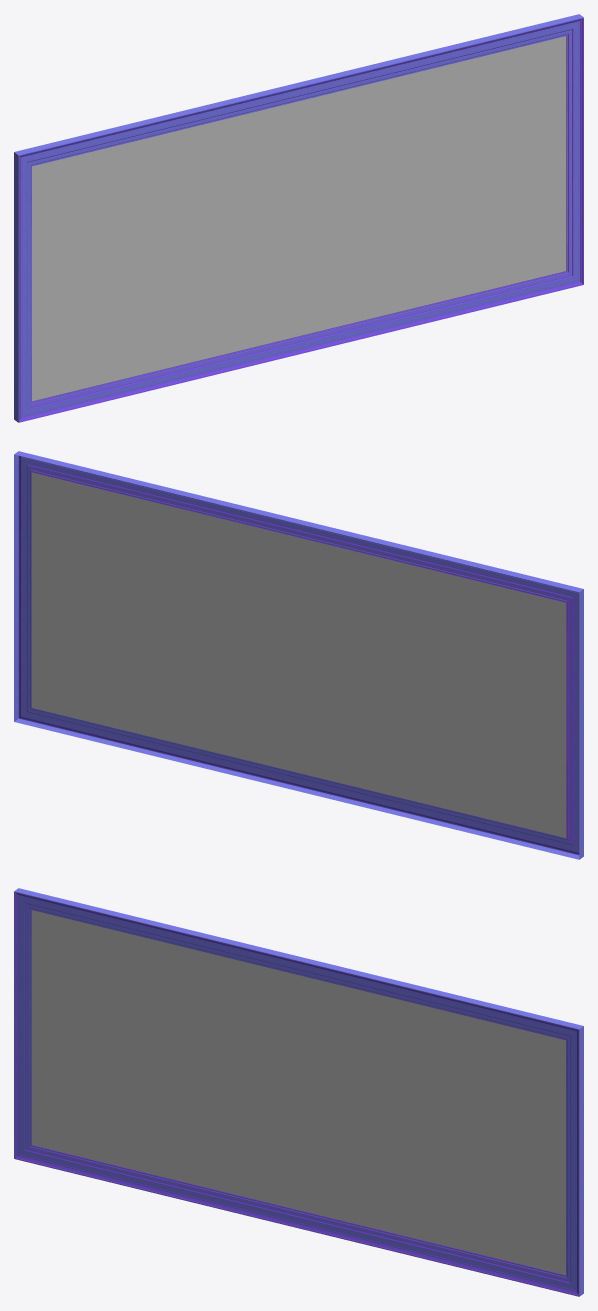
The picture shows the model from 3 angles, top to bottom: view 1: azimuth 30°, elevation 25°; view 2: azimuth 150°, elevation 25°; view 3: azimuth 330°, elevation 25°; orthographic projection.
Parts seen in each view (by area): view 1: _09_16, _09_16_frame; view 2: _09_16, _09_16_frame; view 3: _09_16, _09_16_frame.
Boxes of the visible parts, x1,y1,x2,y2 form: _09_16: [32, 36, 566, 401]; _09_16_frame: [14, 14, 583, 422]; _09_16: [31, 472, 566, 838]; _09_16_frame: [14, 451, 583, 859]; _09_16: [31, 910, 565, 1275]; _09_16_frame: [14, 888, 583, 1296].
Size of the model in its own units: 553 by 250 by 7.83.
